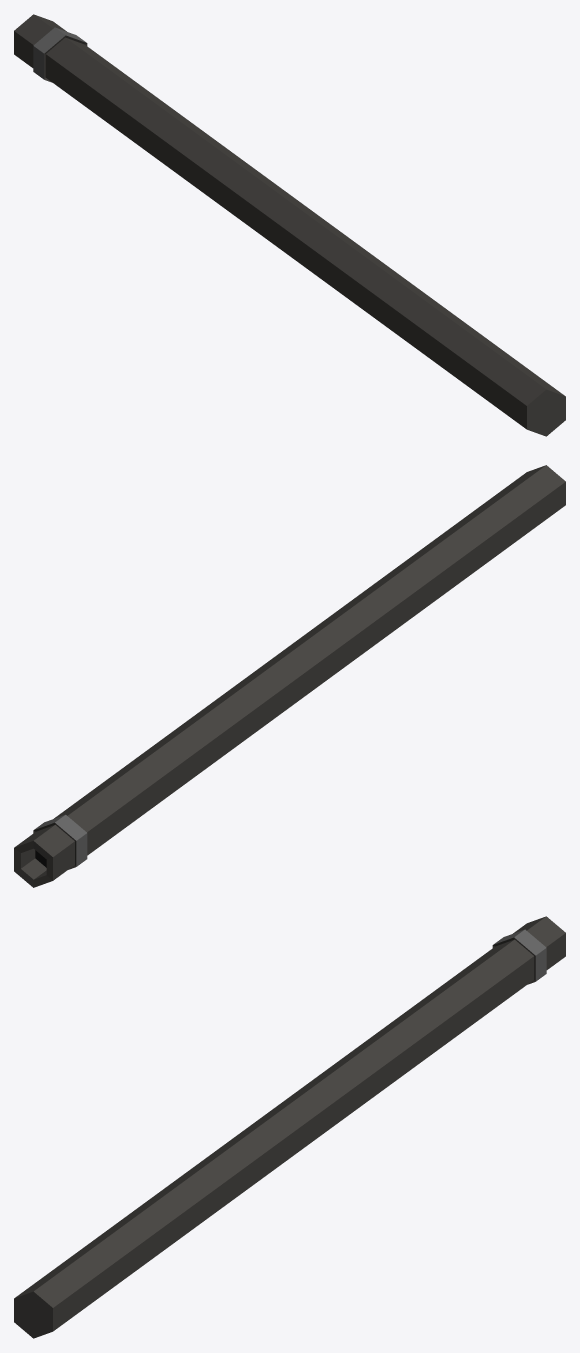
The model's file is muzzle_gun.fbx.
The picture shows the model from 3 angles, top to bottom: view 1: azimuth 30°, elevation 25°; view 2: azimuth 150°, elevation 25°; view 3: azimuth 330°, elevation 25°; orthographic projection.
Visible parts, largest first — view 1: muzzle.001; view 2: muzzle.001; view 3: muzzle.001.
Part boxes in pixels (x1,y1,x2,y2): muzzle.001: (14, 14, 565, 436); muzzle.001: (14, 465, 565, 887); muzzle.001: (14, 916, 565, 1338).
Bounding box in the file's own units: 6.24 × 7.21 × 128.
